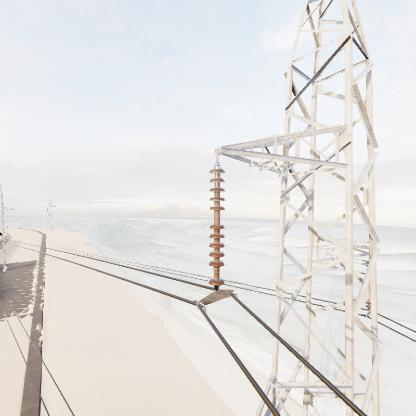insulator: (209, 163, 227, 292)
